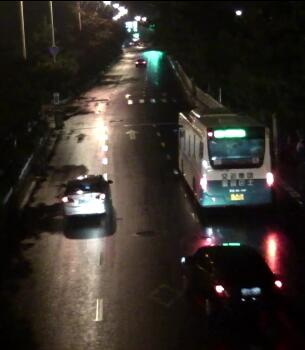bus: (174, 106, 275, 212)
car: (184, 243, 282, 320), (57, 173, 113, 221), (135, 53, 146, 69)
